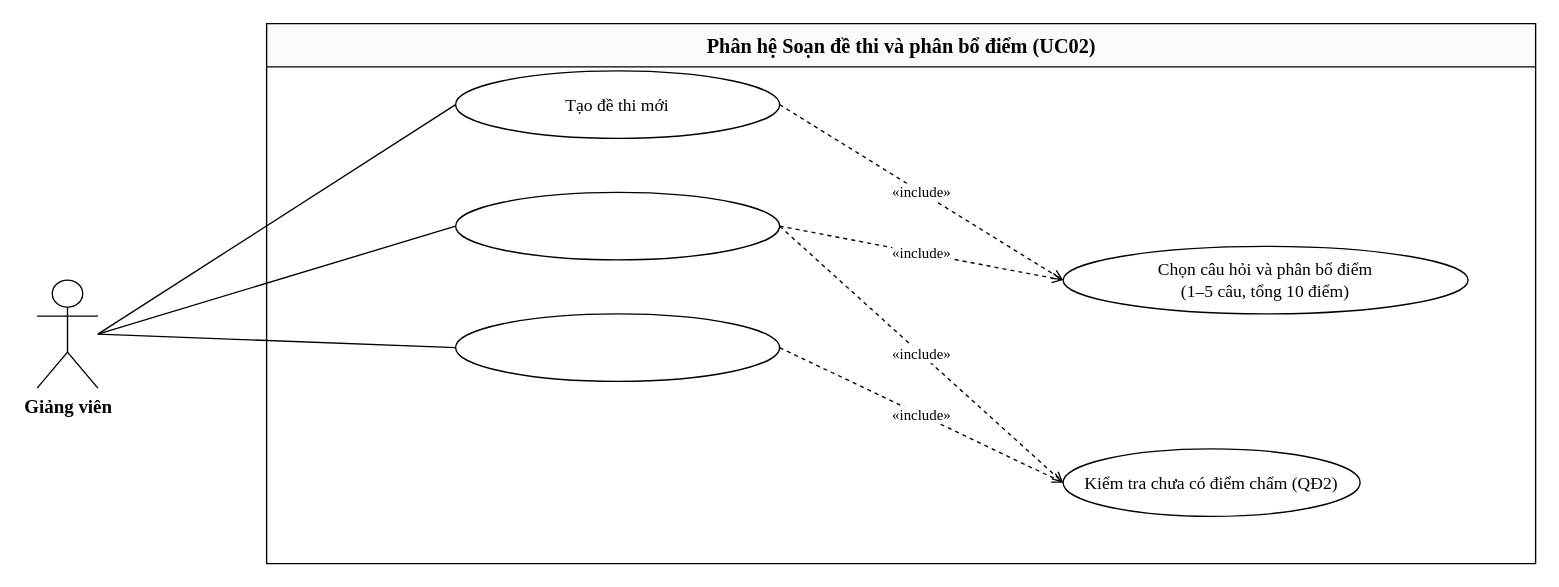
Some shapes in this 1559 by 587 pixel diagram are drawn without their labels. The centre of each missing label's shape, as x and y in pixels:
"Sửa thông tin đề thi" goes at point 617,225.
"Xóa đề thi" goes at point 617,347.
